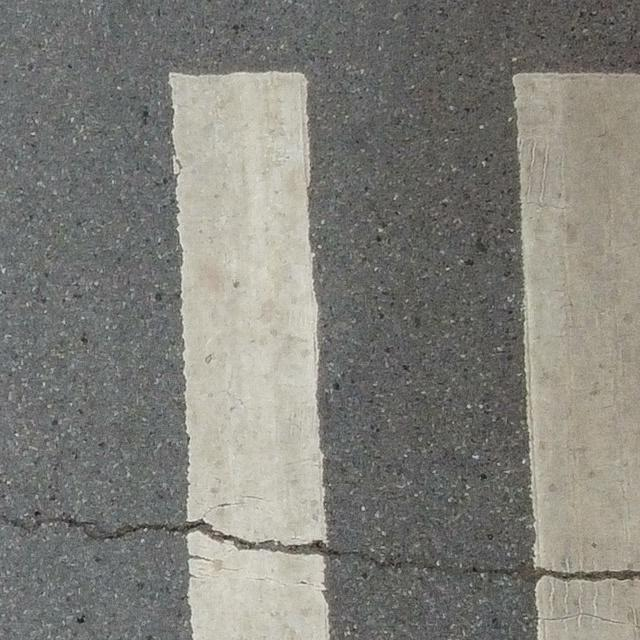TransverseCrack: (3, 512, 640, 584)
